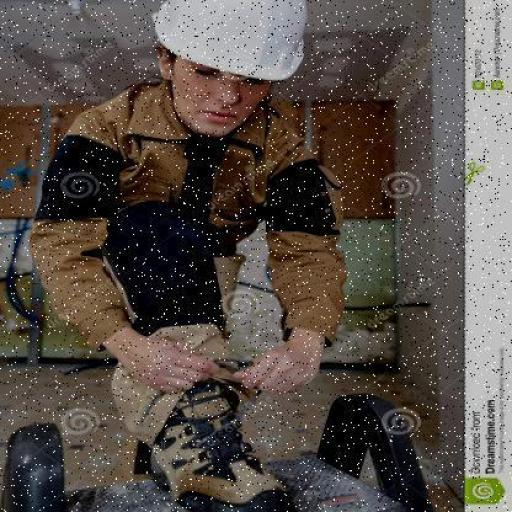person: (52, 0, 347, 510)
safety_shoe: (135, 379, 299, 511)
